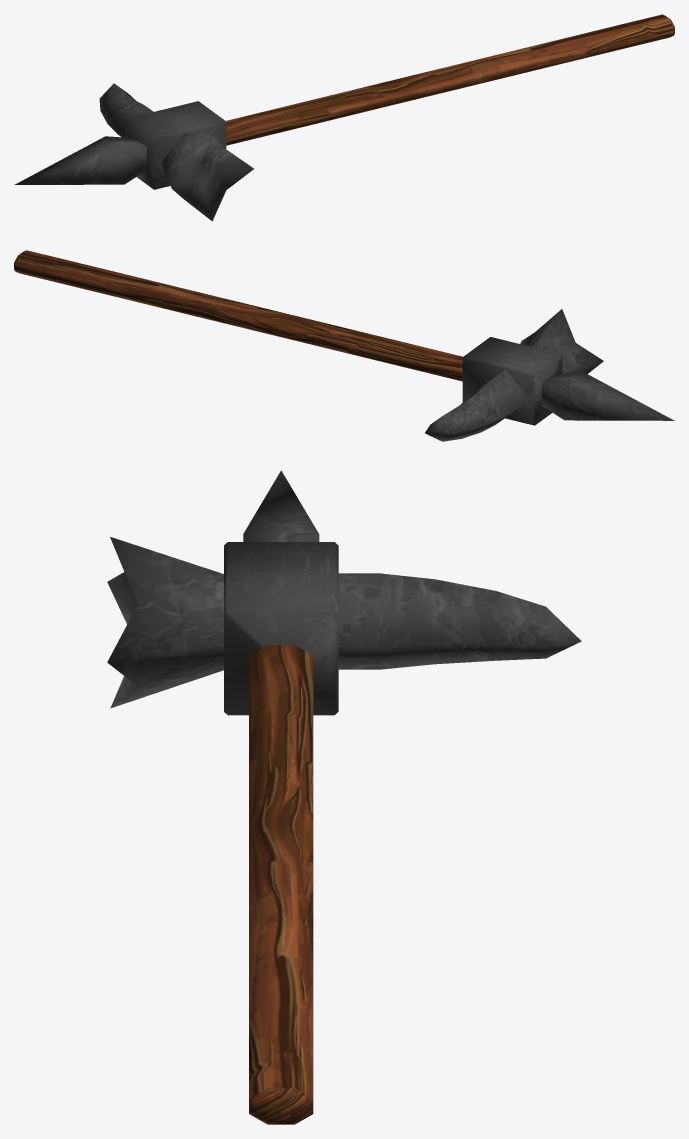
File: Mot_luceranski_with_text.fbx
3 views of the same model, one above another, from view 1: azimuth 30°, elevation 25°; view 2: azimuth 150°, elevation 25°; view 3: azimuth 270°, elevation 25° (orthographic). The views are drawn at different scales.
Visible parts, largest first — view 1: Trzon, Głownia z kolcem, Miażdźyciel, Nadziak; view 2: Trzon, Głownia z kolcem, Nadziak, Miażdźyciel; view 3: Trzon, Głownia z kolcem, Nadziak, Miażdźyciel.
Part boxes in pixels (x1,y1,x2,y2): Trzon: (225, 14, 674, 145); Głownia z kolcem: (14, 101, 226, 189); Miażdźyciel: (161, 133, 253, 221); Nadziak: (99, 83, 153, 137); Trzon: (14, 250, 463, 381); Głownia z kolcem: (462, 337, 674, 425); Nadziak: (425, 369, 530, 441); Miażdźyciel: (520, 309, 603, 373); Trzon: (249, 645, 313, 1124); Głownia z kolcem: (224, 470, 338, 715); Nadziak: (338, 573, 581, 669); Miażdźyciel: (107, 537, 223, 708).
Size of the model in its own units: 236 by 29.59 by 74.05.
4 materials, 4 textured.
